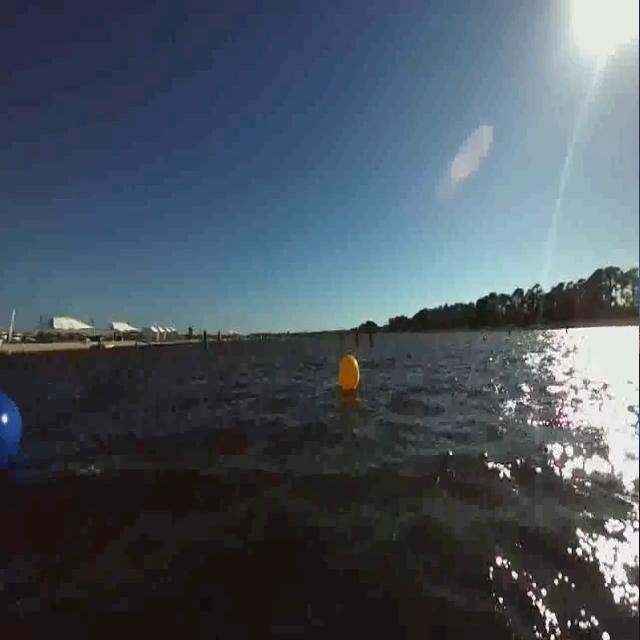blue-buoy: (0, 387, 23, 472)
yellow-buoy: (339, 355, 360, 393)
